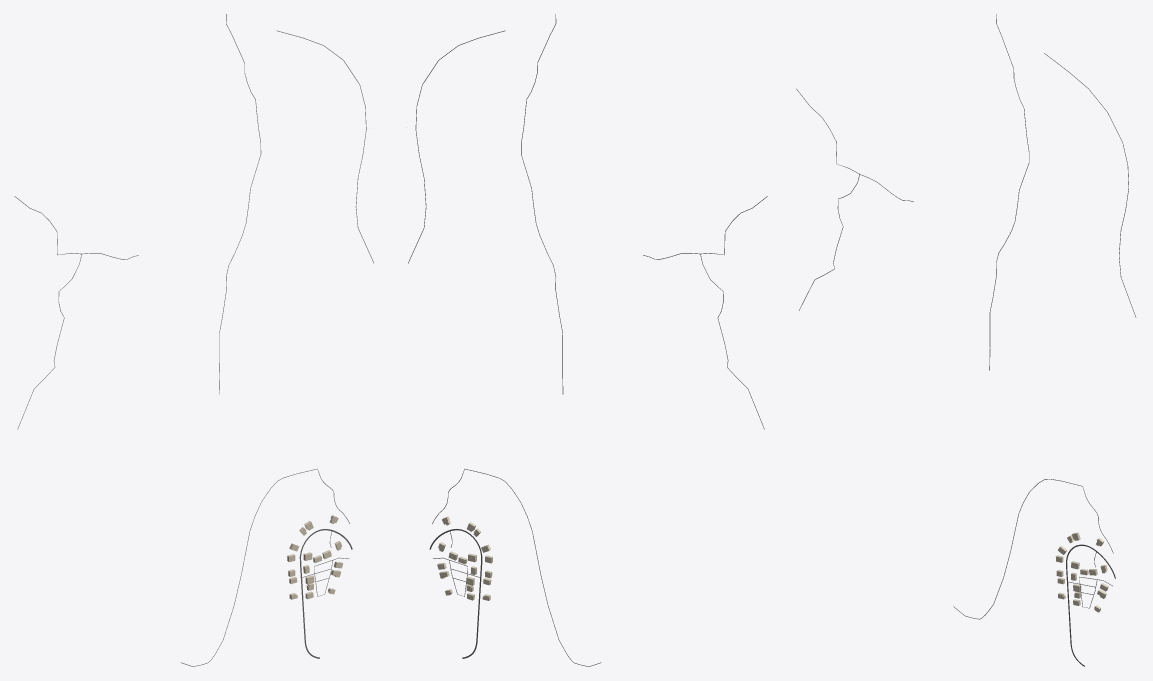
File: historic-palestine-09_28_3512_3229.glb
3 renders of one model, left to right at view 1: azimuth 30°, elevation 25°; view 2: azimuth 150°, elevation 25°; view 3: azimuth 330°, elevation 25°, orthographic. The views are drawn at different scales.
Size of the model in its own units: 896 by 1577 by 9.09.
